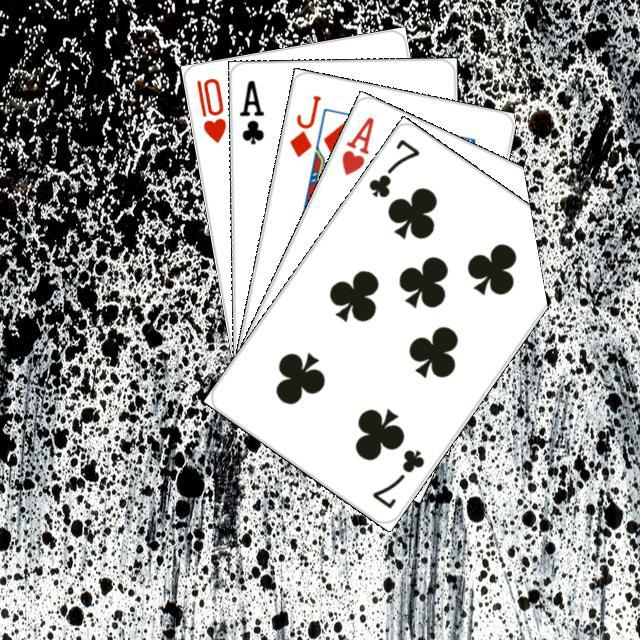10h: (191, 73, 228, 145)
7c: (367, 444, 427, 510), (363, 133, 421, 200)
Ac: (234, 75, 266, 146)
Ah: (336, 111, 376, 178)
Jd: (284, 90, 323, 159)
